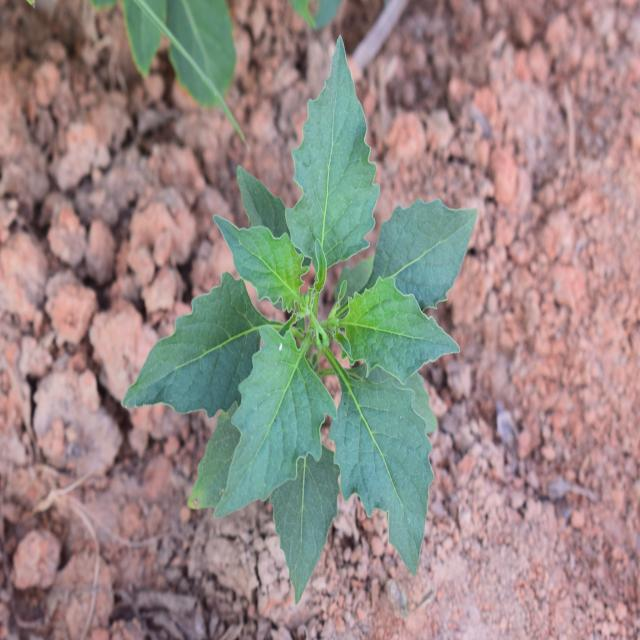Black_nightshade: (154, 80, 462, 598)
